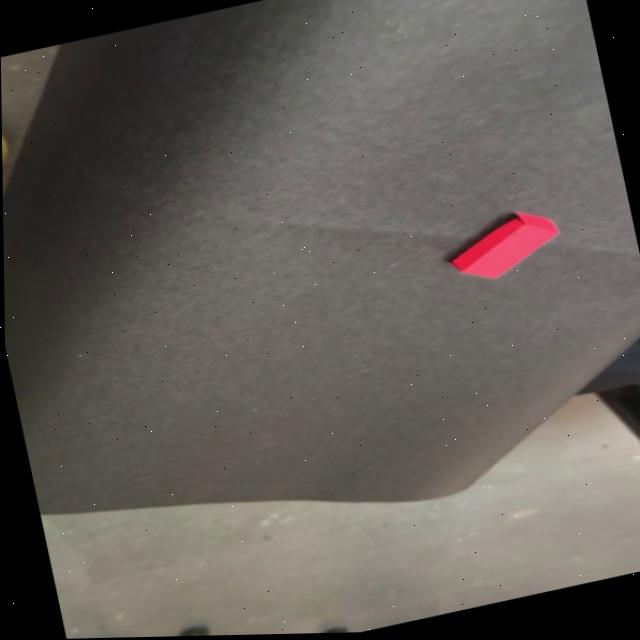red block: (438, 203, 565, 289)
